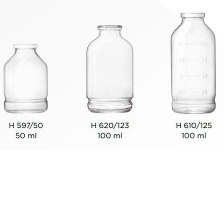bottle: (167, 8, 218, 116), (83, 22, 134, 115), (1, 39, 52, 116)
